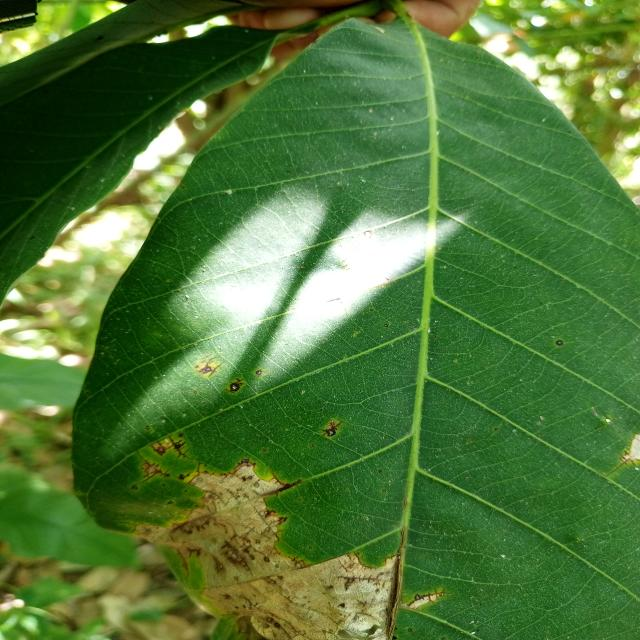Colletotrichum: (274, 622, 280, 628), (275, 564, 279, 568), (309, 546, 312, 549)
